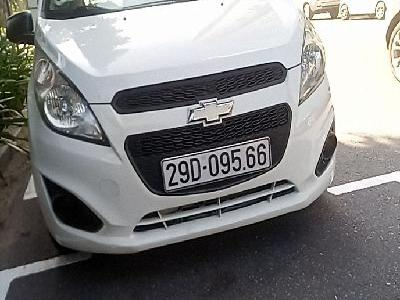number: (163, 140, 271, 189)
